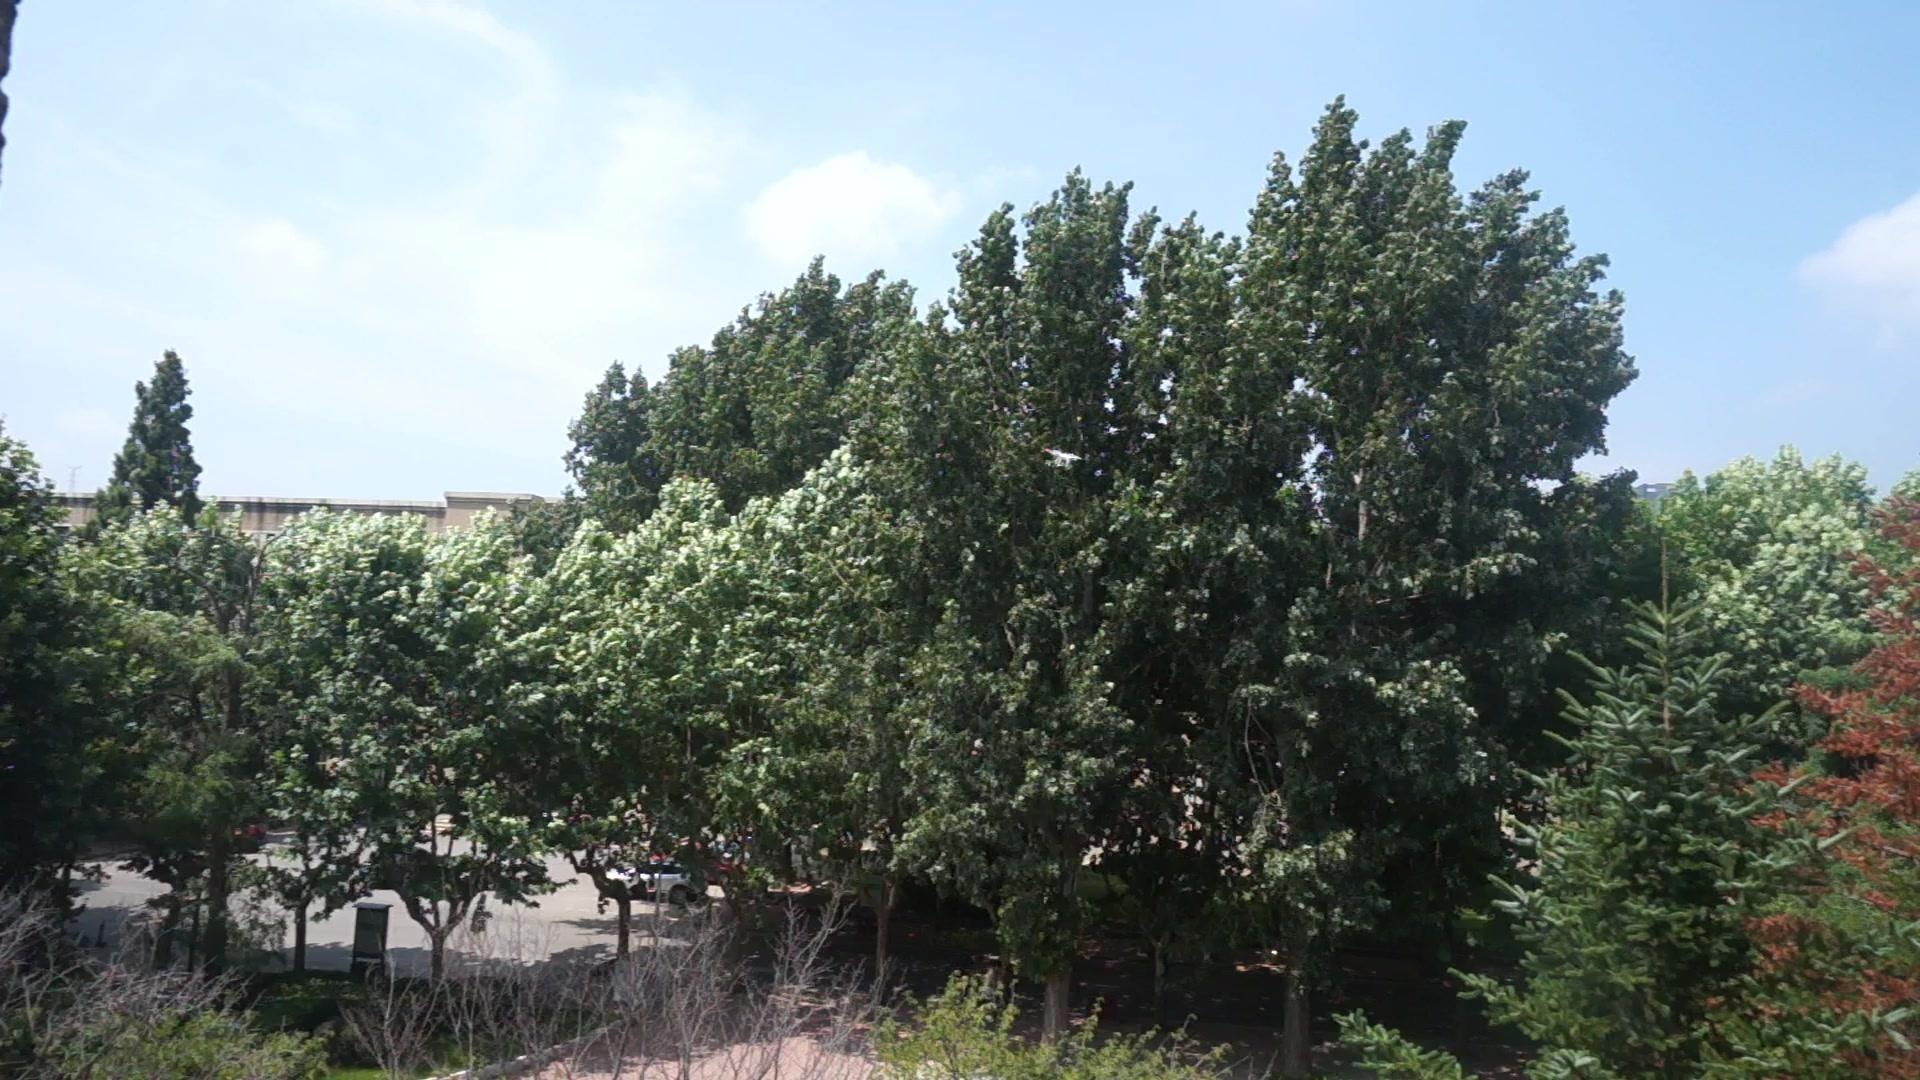UAV: (1047, 450, 1083, 467)
